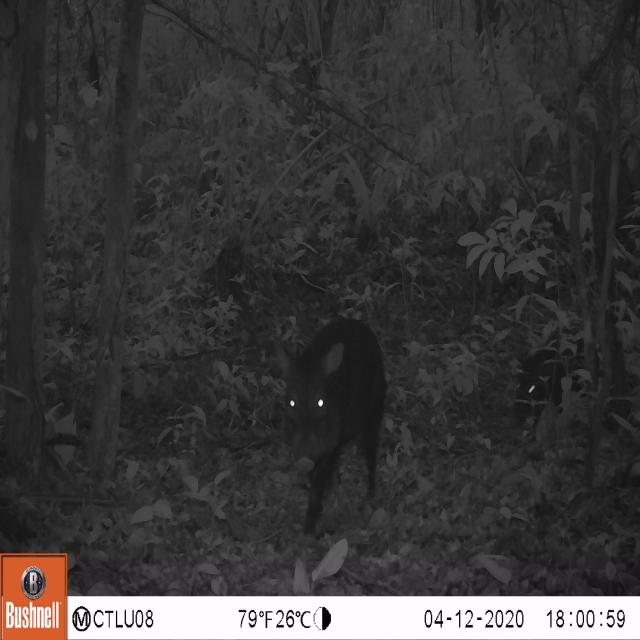Collared Peccary: (259, 302, 396, 548), (496, 342, 576, 446)
